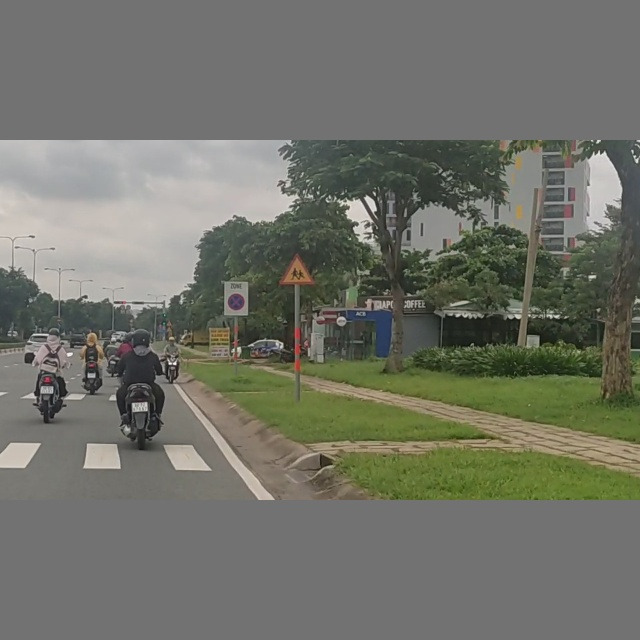P.130: (228, 293, 245, 310)
W.225: (279, 253, 315, 286)
